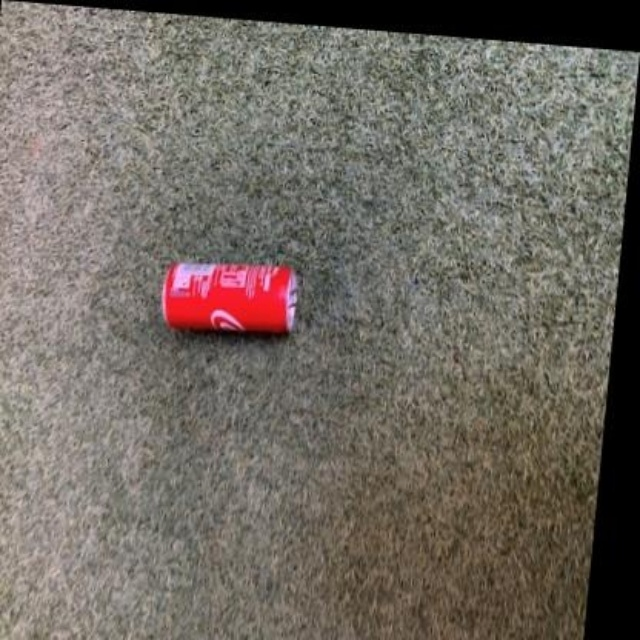trash: (163, 263, 295, 332)
